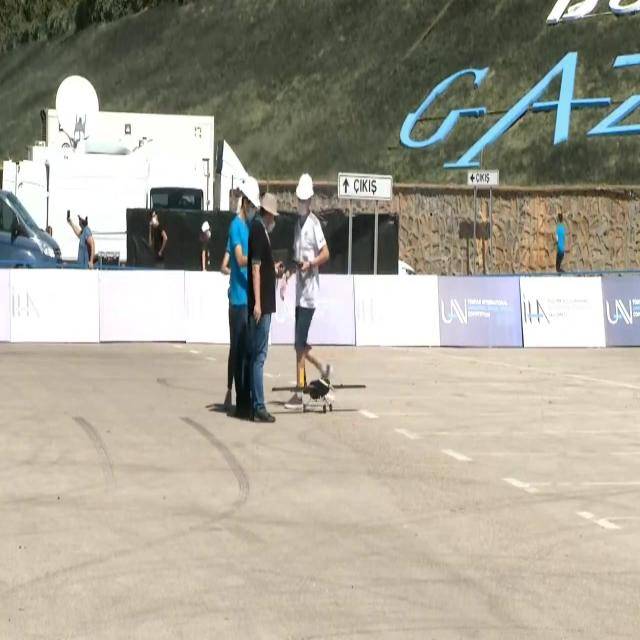iha: (304, 372, 334, 409)
